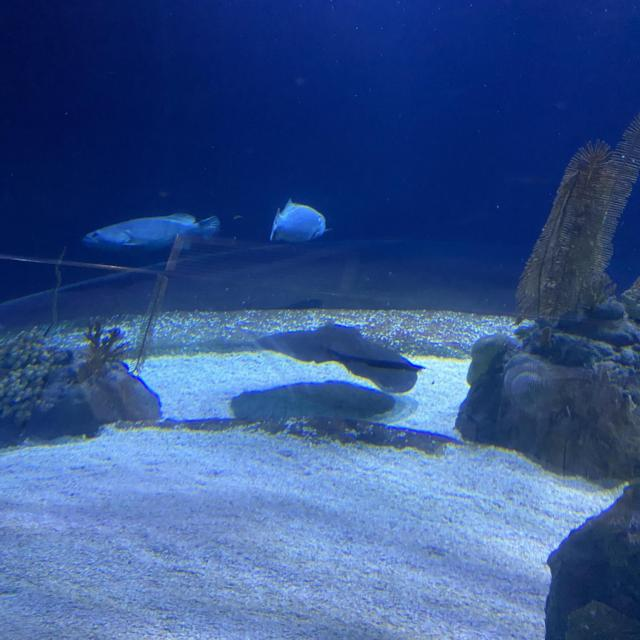fish: (80, 214, 218, 249), (270, 201, 326, 242)
stingray: (255, 322, 418, 394)
